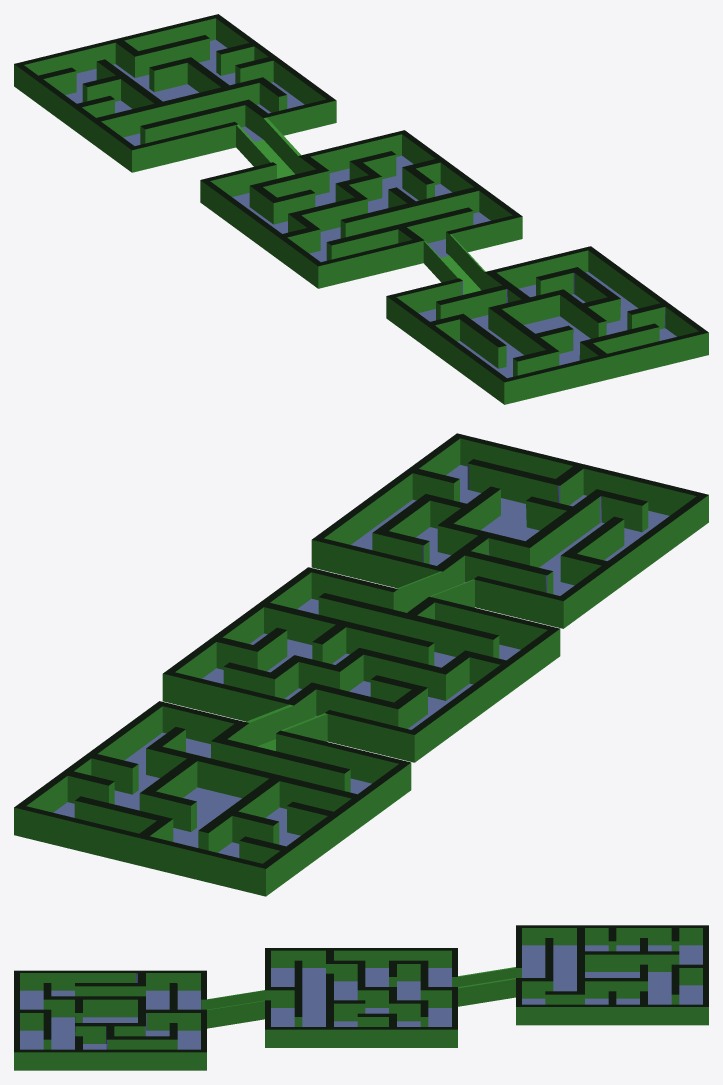
Rendered from Maze-3levels.dae.
3 renders of one model, top to bottom at view 1: azimuth 30°, elevation 25°; view 2: azimuth 150°, elevation 25°; view 3: azimuth 270°, elevation 25°, orthographic. The views are drawn at different scales.
Visible parts, largest first — view 1: Curve; view 2: Curve; view 3: Curve.
Part boxes in pixels (x1,y1,x2,y2): Curve: (14, 14, 708, 404); Curve: (14, 433, 708, 896); Curve: (14, 925, 708, 1070).
Bounding box in the file's own units: 26.4 × 72 × 4.28.
